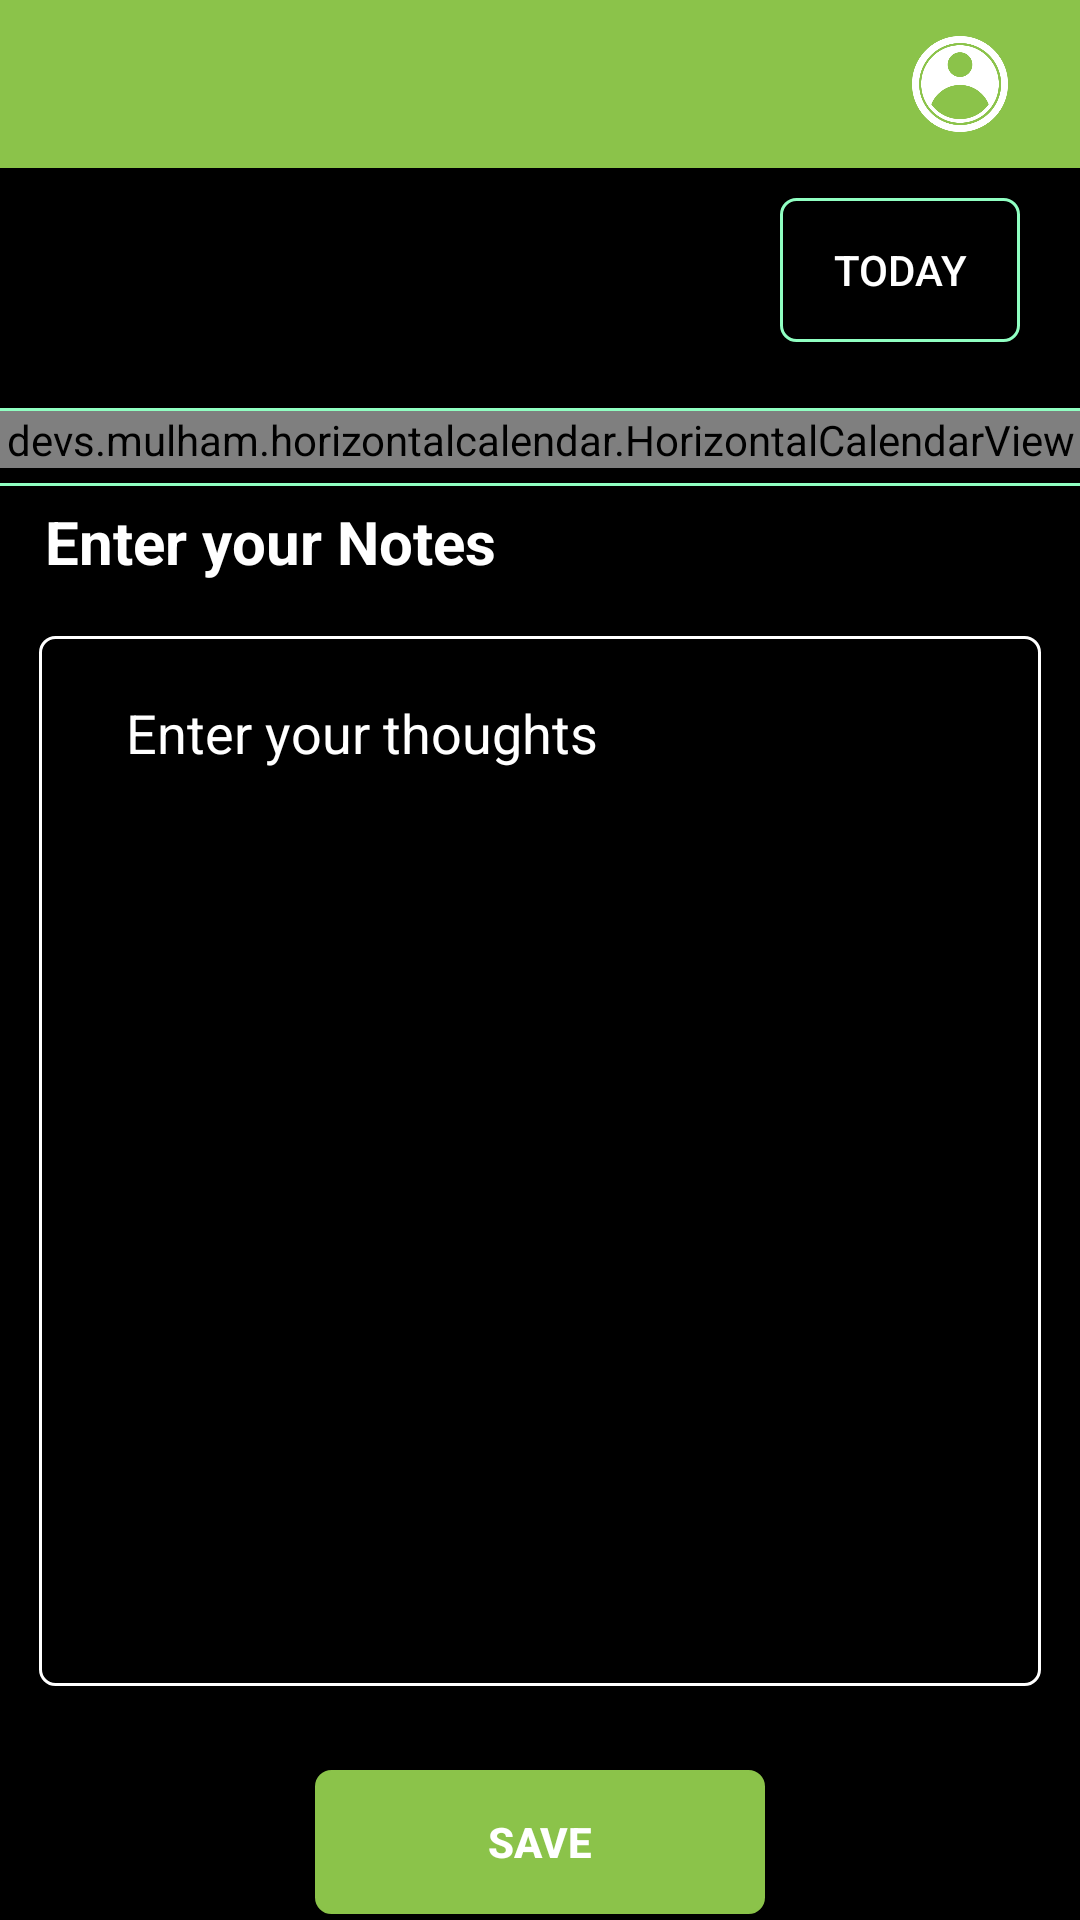

Icons on this 1080px x 1920px Android screen, each with its box as (x1, y1, x2, y2):
userima: (912, 36, 1008, 132)
